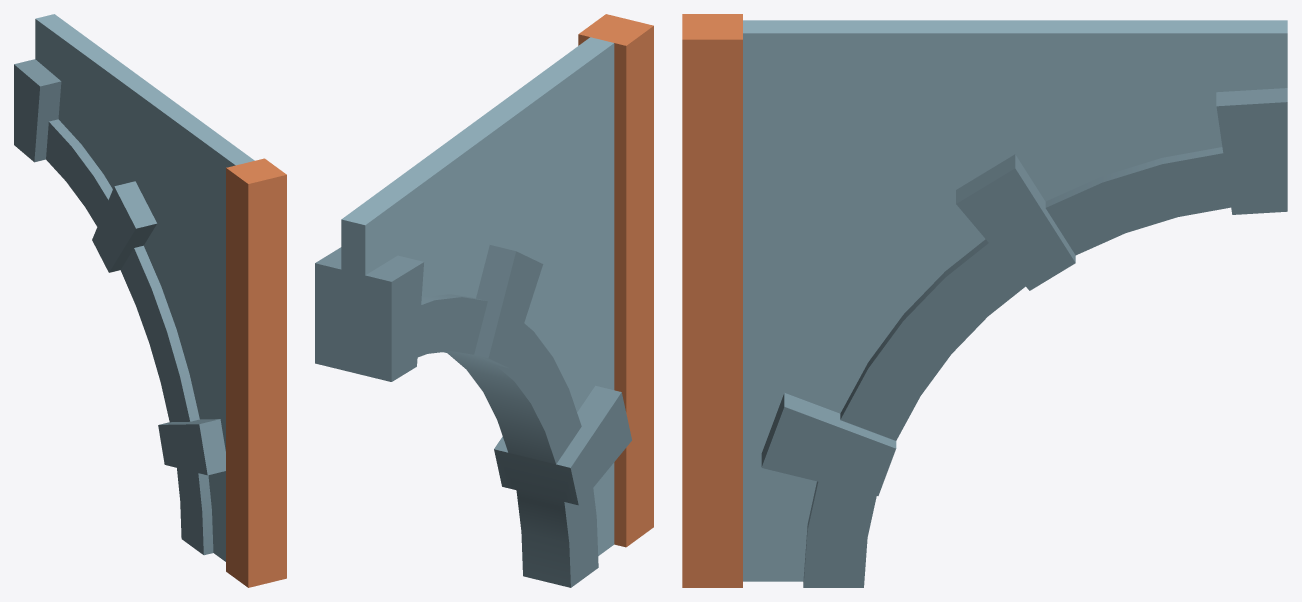
The model's file is wallArchTopDetail.fbx.
3 views of the same model, side by side, from view 1: azimuth 30°, elevation 25°; view 2: azimuth 150°, elevation 25°; view 3: azimuth 270°, elevation 25° (orthographic). The views are drawn at different scales.
Parts seen in each view (by area): view 1: wallArchTopDetail; view 2: wallArchTopDetail; view 3: wallArchTopDetail.
Boxes of the visible parts, bbox=[...] form: wallArchTopDetail: bbox=[14, 14, 286, 587]; wallArchTopDetail: bbox=[315, 14, 653, 587]; wallArchTopDetail: bbox=[682, 14, 1287, 587].
Bounding box in the file's own units: 1.6 × 10 × 10.
